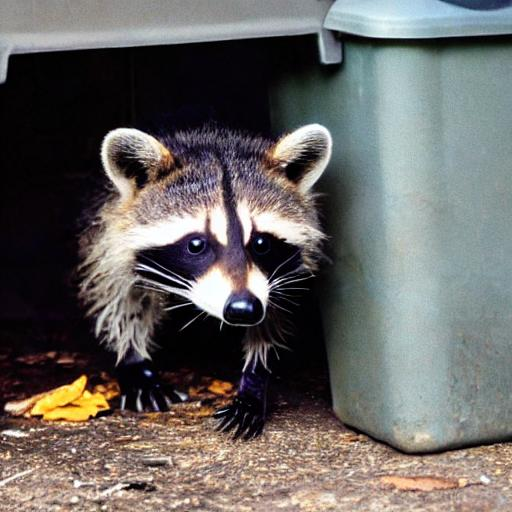raccoon: (61, 115, 344, 388)
